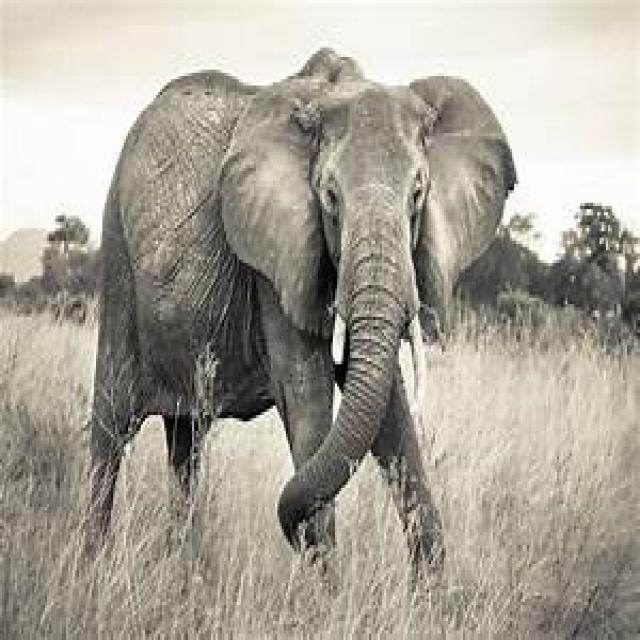elephant: (90, 48, 518, 592)
